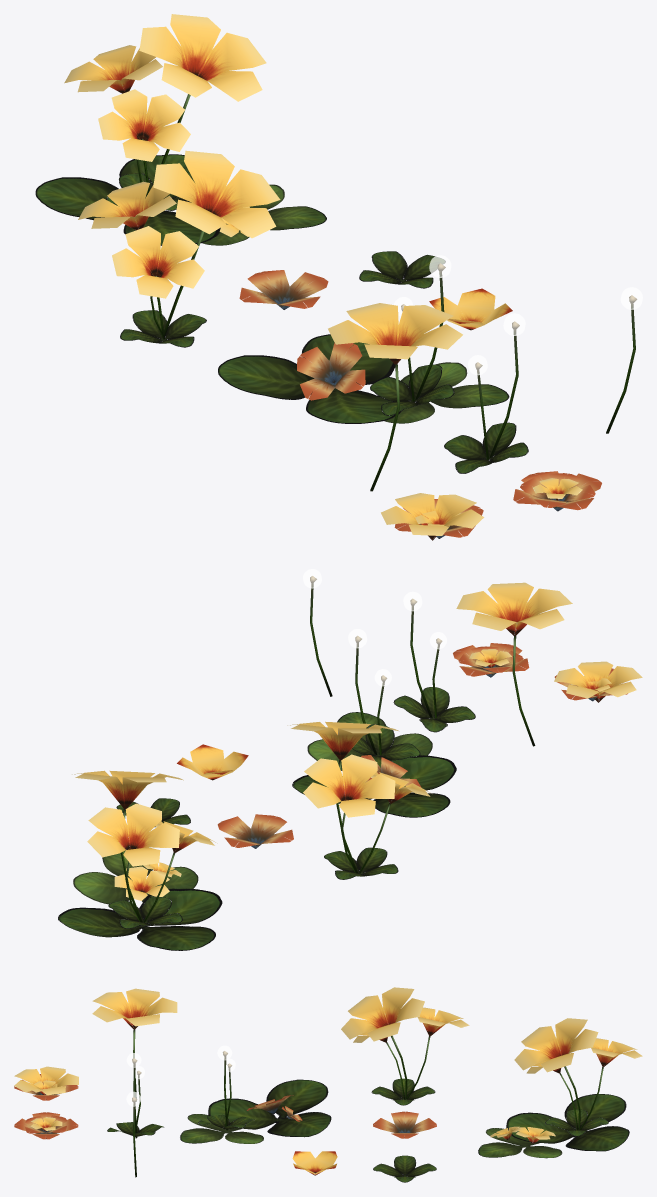
Rendered from Flowers.fbx.
3 renders of one model, top to bottom at view 1: azimuth 30°, elevation 25°; view 2: azimuth 150°, elevation 25°; view 3: azimuth 270°, elevation 25°, orthographic. The views are drawn at different scales.
Parts seen in each view (by area): view 1: Yellow Flower Patch, Yellow Flowers, Dandelion Patch, Yellow Flower Stem, Dandelions, Yellow Flower, Flower Layer 1, Orange Flower, Leaves, Evil Flower, Dandelion, Flower Layer 2; view 2: Yellow Flower Patch, Yellow Flowers, Dandelion Patch, Yellow Flower Stem, Dandelions, Yellow Flower, Flower Layer 1, Orange Flower, Evil Flower, Leaves, Dandelion; view 3: Yellow Flower Patch, Dandelion Patch, Yellow Flowers, Yellow Flower Stem, Yellow Flower, Flower Layer 1, Orange Flower, Dandelions, Leaves, Evil Flower, Flower Layer 2, Dandelion.
Boxes of the visible parts, x1=… form: Yellow Flower Patch: x1=35, y1=14, x2=326, y2=245; Yellow Flowers: x1=78, y1=150, x2=280, y2=347; Dandelion Patch: x1=218, y1=255, x2=509, y2=423; Yellow Flower Stem: x1=328, y1=303, x2=462, y2=491; Dandelions: x1=444, y1=313, x2=528, y2=473; Yellow Flower: x1=381, y1=493, x2=484, y2=540; Flower Layer 1: x1=513, y1=471, x2=601, y2=511; Orange Flower: x1=239, y1=270, x2=328, y2=309; Leaves: x1=359, y1=251, x2=445, y2=288; Evil Flower: x1=429, y1=288, x2=512, y2=330; Dandelion: x1=606, y1=287, x2=642, y2=433; Flower Layer 2: x1=394, y1=499, x2=483, y2=538; Yellow Flower Patch: x1=58, y1=770, x2=222, y2=950; Yellow Flowers: x1=287, y1=721, x2=430, y2=879; Dandelion Patch: x1=292, y1=629, x2=456, y2=817; Yellow Flower Stem: x1=456, y1=582, x2=572, y2=746; Dandelions: x1=393, y1=591, x2=475, y2=732; Yellow Flower: x1=554, y1=661, x2=642, y2=702; Flower Layer 1: x1=453, y1=643, x2=529, y2=677; Orange Flower: x1=217, y1=814, x2=293, y2=848; Evil Flower: x1=177, y1=744, x2=248, y2=780; Leaves: x1=116, y1=798, x2=190, y2=827; Dandelion: x1=303, y1=569, x2=332, y2=696; Yellow Flower Patch: x1=478, y1=1018, x2=642, y2=1158; Dandelion Patch: x1=180, y1=1045, x2=331, y2=1143; Yellow Flowers: x1=341, y1=987, x2=469, y2=1105; Yellow Flower Stem: x1=92, y1=988, x2=177, y2=1101; Yellow Flower: x1=14, y1=1066, x2=78, y2=1095; Flower Layer 1: x1=14, y1=1112, x2=78, y2=1139; Orange Flower: x1=373, y1=1111, x2=436, y2=1138; Dandelions: x1=107, y1=1053, x2=164, y2=1138; Leaves: x1=373, y1=1155, x2=436, y2=1182; Evil Flower: x1=292, y1=1151, x2=337, y2=1175; Flower Layer 2: x1=14, y1=1074, x2=78, y2=1100; Dandelion: x1=126, y1=1091, x2=141, y2=1177.
Bounding box in the file's own units: 30.67 × 15.45 × 73.65.
2 materials, 1 textured.
